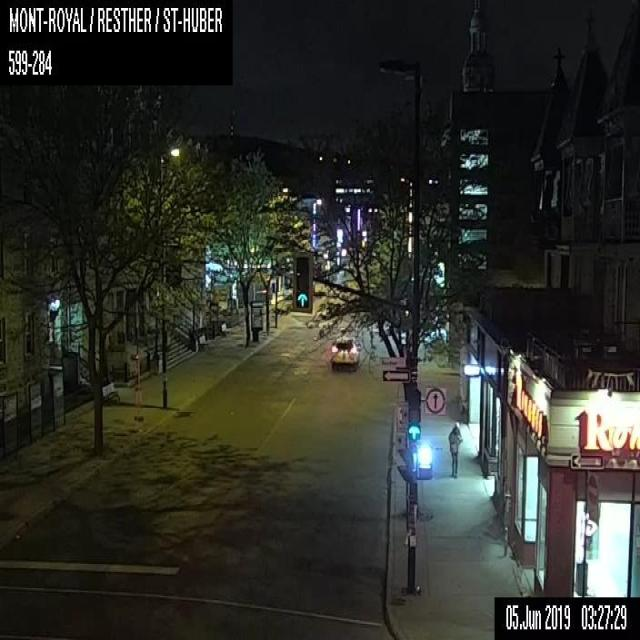pedestrian: (448, 421, 462, 476)
vehicle: (330, 336, 358, 368)
